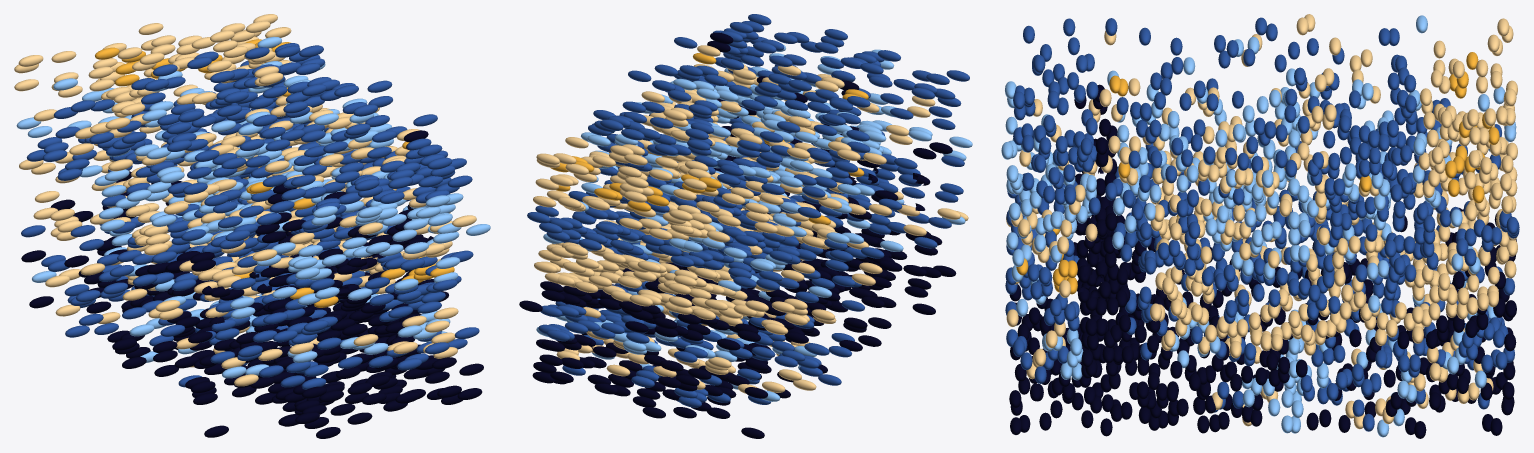
File: painting.glb
3 views of the same model, side by side, from view 1: azimuth 30°, elevation 25°; view 2: azimuth 150°, elevation 25°; view 3: azimuth 270°, elevation 25° (orthographic). The views are drawn at different scales.
Visible parts, largest first — view 1: svMel.1556, svMel.968, svMel.1645, svMel.443, svMel.1894, svMel.1893; view 2: svMel.1556, svMel.968, svMel.1645, svMel.443, svMel.1894, svMel.1893; view 3: svMel.968, svMel.1556, svMel.443, svMel.1893, svMel.1645, svMel.1894.
Part boxes in pixels (box(x1,y1,x2,y2)): svMel.1556: box(82, 43, 362, 438); svMel.968: box(213, 14, 490, 404); svMel.1645: box(14, 55, 262, 437); svMel.443: box(189, 30, 450, 411); svMel.1894: box(50, 51, 310, 397); svMel.1893: box(138, 23, 394, 424); svMel.1556: box(642, 49, 907, 418); svMel.968: box(519, 14, 771, 384); svMel.1645: box(733, 70, 972, 438); svMel.443: box(564, 32, 821, 396); svMel.1894: box(704, 70, 932, 418); svMel.1893: box(618, 29, 850, 407); svMel.968: box(1005, 130, 1519, 438); svMel.1556: box(1001, 52, 1517, 370); svMel.443: box(1006, 104, 1516, 418); svMel.1893: box(1005, 88, 1517, 383); svMel.1645: box(1005, 14, 1513, 315); svMel.1894: box(1008, 34, 1517, 334).
Size of the model in its own units: 15.45 by 13.54 by 21.37.
